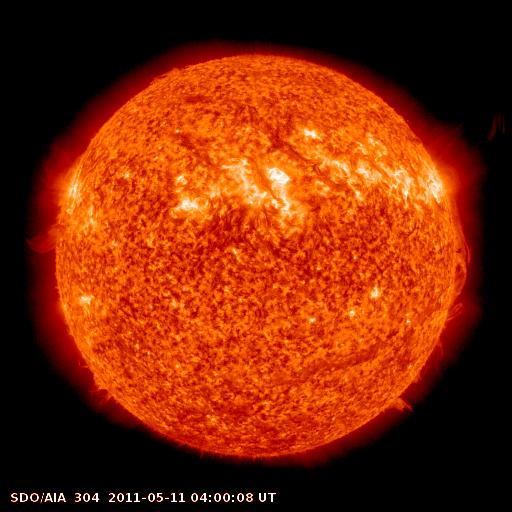prominence: (442, 208, 481, 298), (15, 213, 72, 258), (380, 392, 422, 420)
